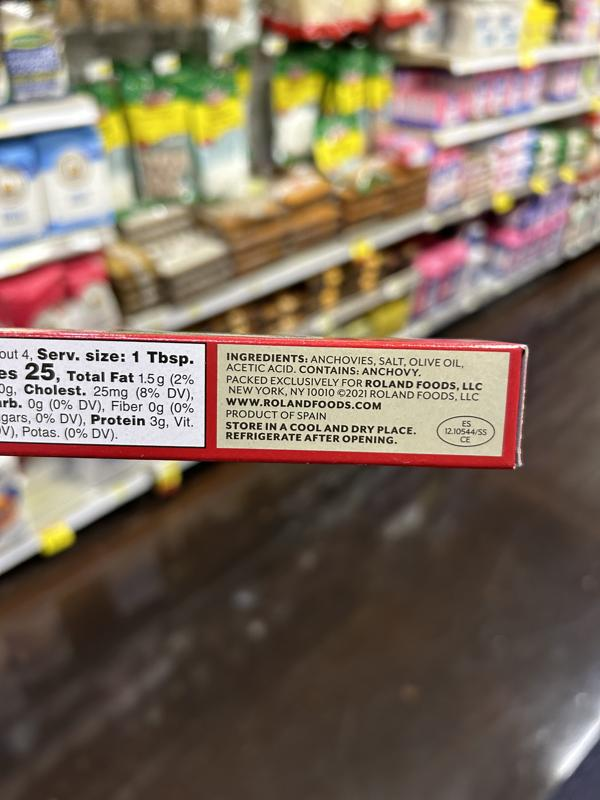ingredients: (222, 349, 467, 379)
